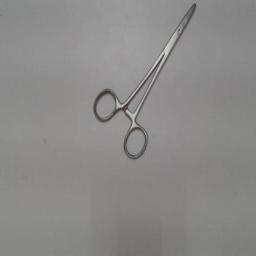Mayo Needle Holder: (89, 0, 201, 164)
